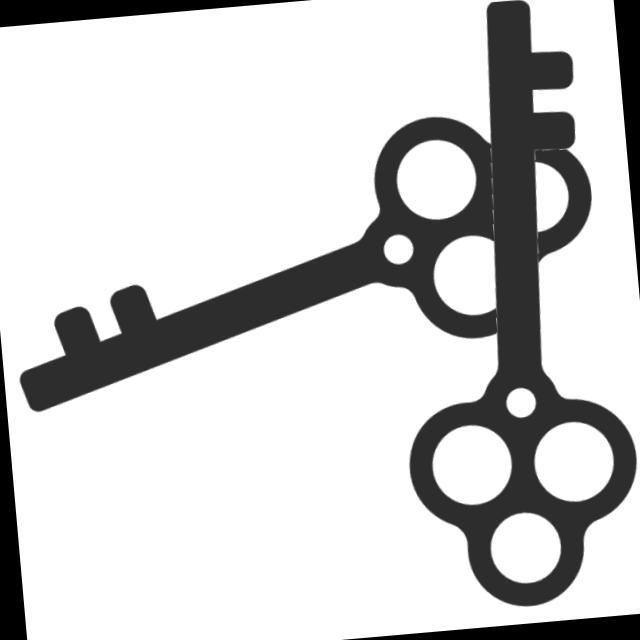key: (1, 87, 614, 428), (360, 1, 640, 624)
